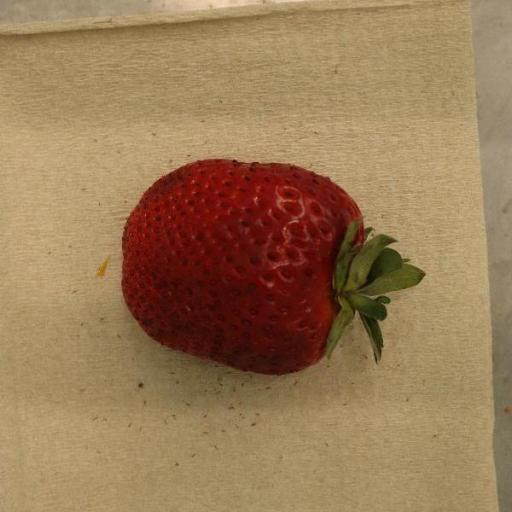Strawberry: (121, 159, 426, 376)
